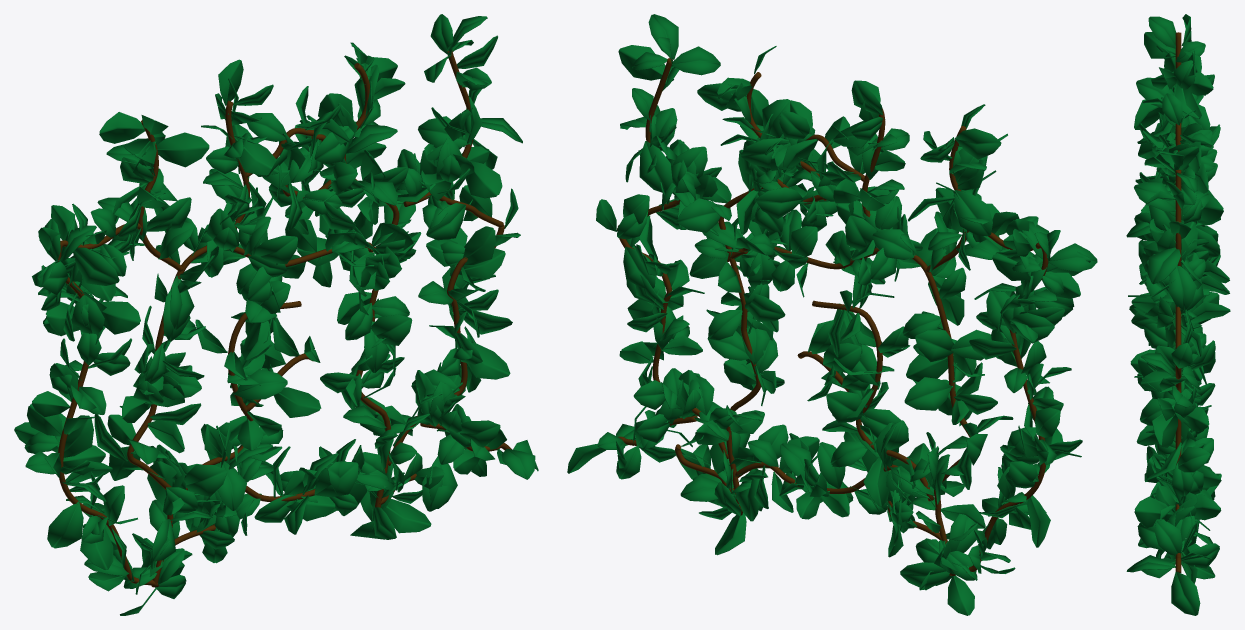
Rendered from Vine_A.fbx.
3 renders of one model, left to right at view 1: azimuth 30°, elevation 25°; view 2: azimuth 150°, elevation 25°; view 3: azimuth 270°, elevation 25°, orthographic. The views are drawn at different scales.
Visible parts, largest first — view 1: Vine_A; view 2: Vine_A; view 3: Vine_A.
Boxes of the visible parts, x1,y1,x2,y2 form: Vine_A: [14, 14, 538, 615]; Vine_A: [567, 14, 1097, 615]; Vine_A: [1126, 14, 1230, 615].
Bounding box in the file's own units: 197 × 190 × 37.56.
